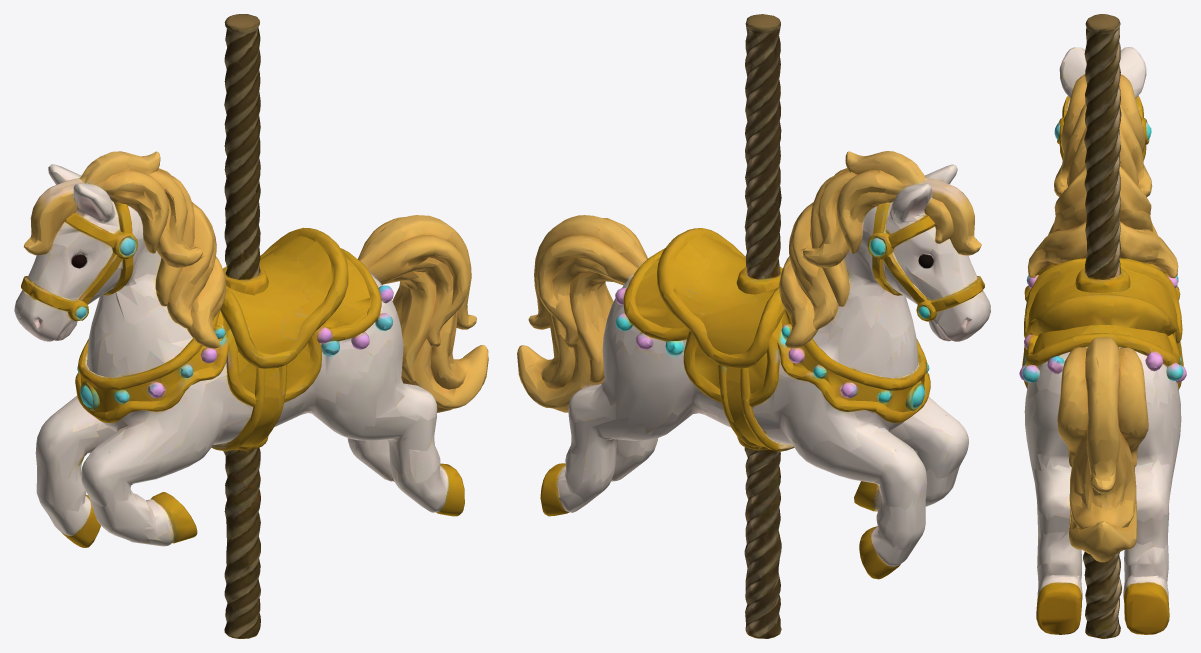
The model's file is caballo.glb.
The picture shows the model from 3 angles, left to right: view 1: azimuth 30°, elevation 25°; view 2: azimuth 150°, elevation 25°; view 3: azimuth 270°, elevation 25°; orthographic projection.
Visible parts, largest first — view 1: output_unwrapped; view 2: output_unwrapped; view 3: output_unwrapped.
Part boxes in pixels (bbox=[...]): output_unwrapped: bbox=[14, 14, 488, 638]; output_unwrapped: bbox=[517, 14, 990, 638]; output_unwrapped: bbox=[1019, 14, 1186, 638].
Size of the model in its own units: 1.52 by 1.9 by 0.4712.
Materials: 1 (1 with a texture image).
